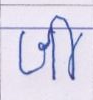i_matra: (55, 14, 84, 81)
